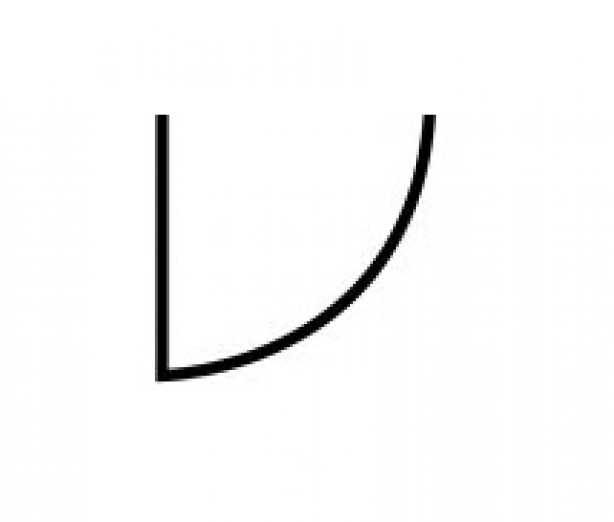door: (122, 95, 462, 426)
